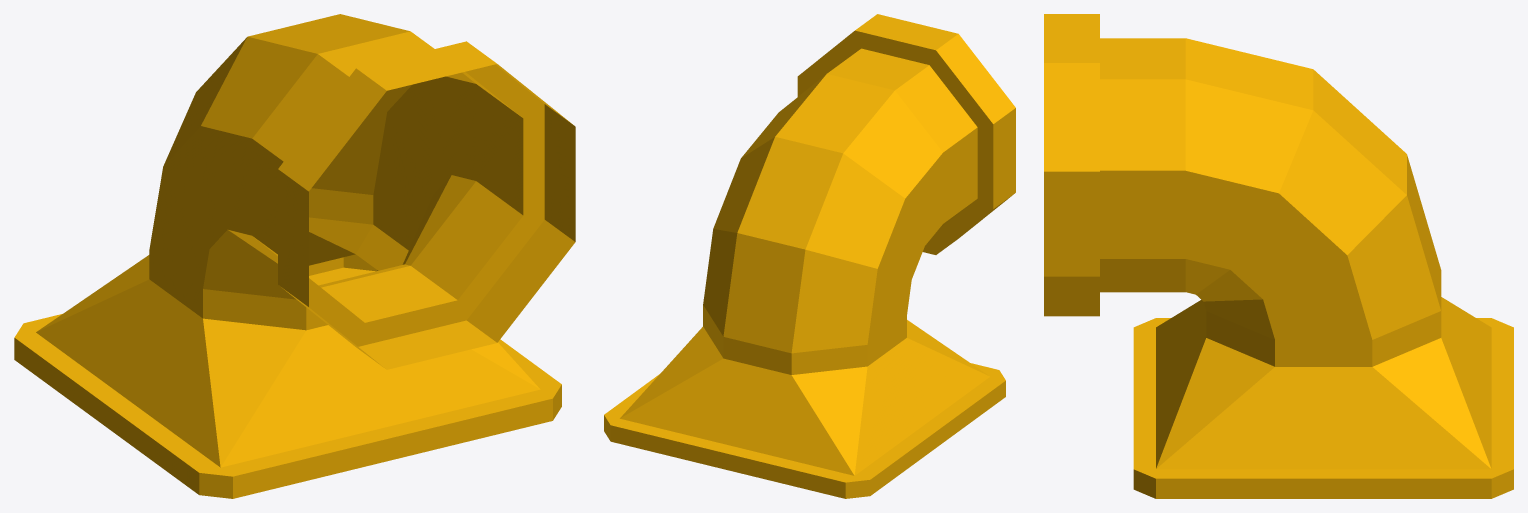
The model's file is modular_engine_exhaust_manifold_housing_corner.dae.
3 views of the same model, side by side, from view 1: azimuth 30°, elevation 25°; view 2: azimuth 150°, elevation 25°; view 3: azimuth 270°, elevation 25° (orthographic). The views are drawn at different scales.
Visible parts, largest first — view 1: Cube; view 2: Cube; view 3: Cube.
Part boxes in pixels (x1,y1,x2,y2): Cube: [14, 14, 575, 498]; Cube: [604, 14, 1015, 498]; Cube: [1044, 14, 1513, 498].
Size of the model in its own units: 0.17 by 0.21 by 0.1875.
